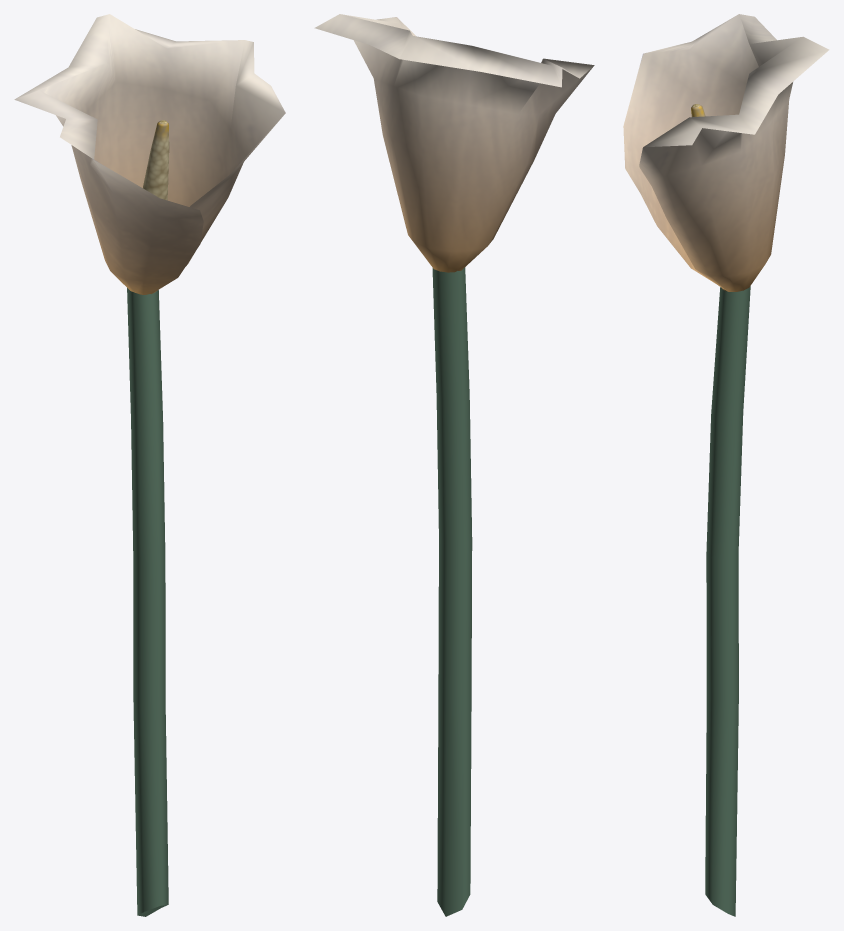
The model's file is flowerLily.fbx.
3 renders of one model, left to right at view 1: azimuth 30°, elevation 25°; view 2: azimuth 150°, elevation 25°; view 3: azimuth 270°, elevation 25°, orthographic. The views are drawn at different scales.
Parts seen in each view (by area): view 1: lilyPetal, flowerLily, lilyStigma; view 2: lilyPetal, flowerLily; view 3: lilyPetal, flowerLily.
Boxes of the visible parts, x1,y1,x2,y2 form: lilyPetal: [14, 14, 285, 294]; flowerLily: [127, 288, 168, 916]; lilyStigma: [140, 120, 169, 294]; lilyPetal: [314, 14, 594, 272]; flowerLily: [432, 267, 472, 916]; lilyPetal: [623, 14, 829, 291]; flowerLily: [705, 286, 750, 916].
Size of the model in its own units: 16.15 by 56.55 by 12.02.
Materials: 2 (2 with a texture image).
